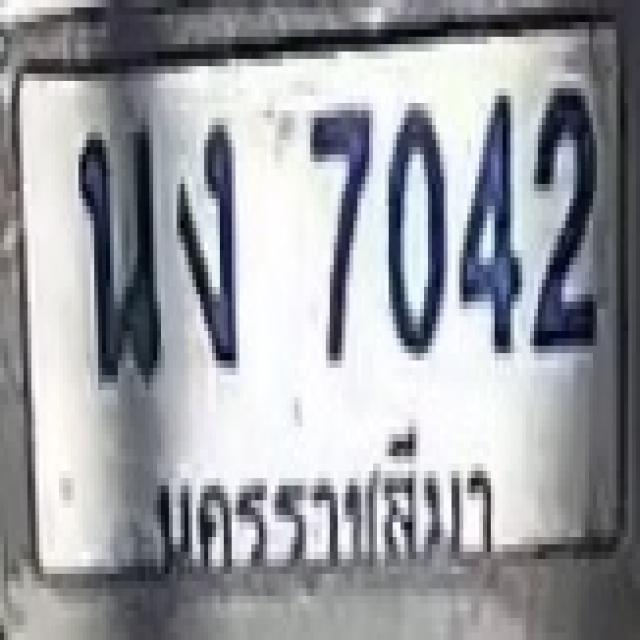-: (75, 114, 157, 379), (172, 110, 235, 368)
0: (384, 96, 444, 353)
2: (530, 81, 593, 346)
4: (456, 84, 518, 350)
7: (306, 99, 369, 364)
NMA: (136, 418, 508, 602)
